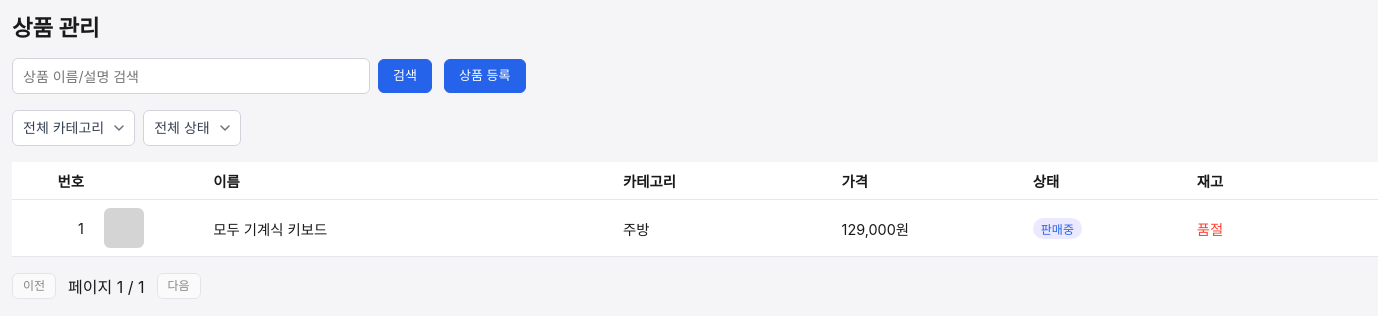
Test case: ProductsPage › says so when nothing matches the search
The image size is (1378, 316).
Expected: the text "모두 기계식 키보드" is shown, 203,200 -> 613,256
Type "없는상품" into the field named "상품 검색" at point(191, 76), box 12,58 -> 370,94
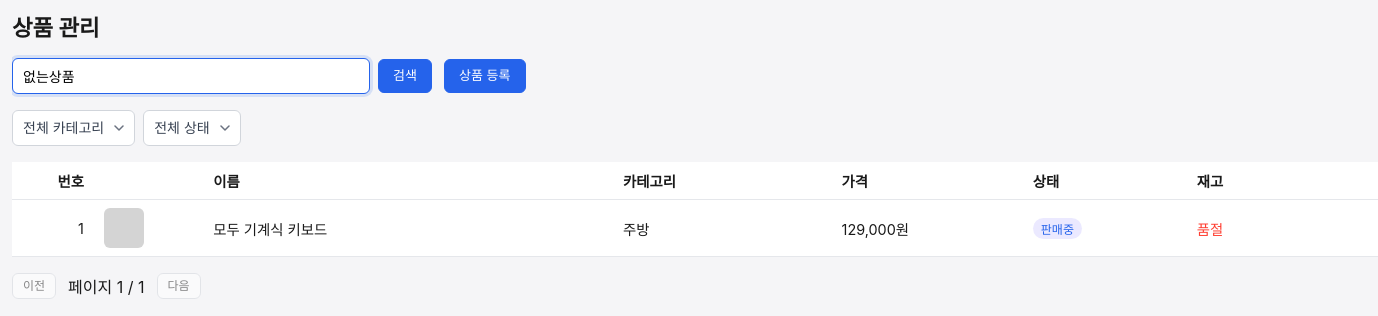
Click the button "검색" at point(405, 76), box 378,59 -> 432,93
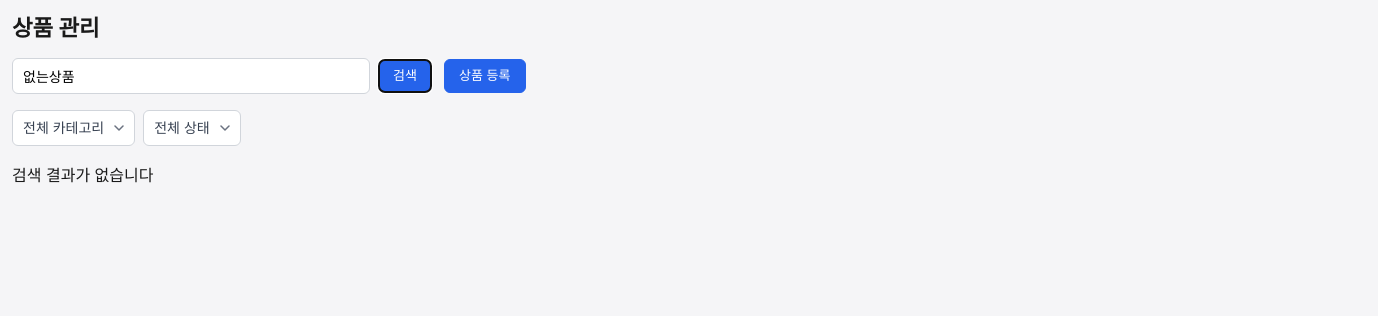
Expected: the text "검색 결과가 없습니다" is shown, 12,165 -> 154,185
